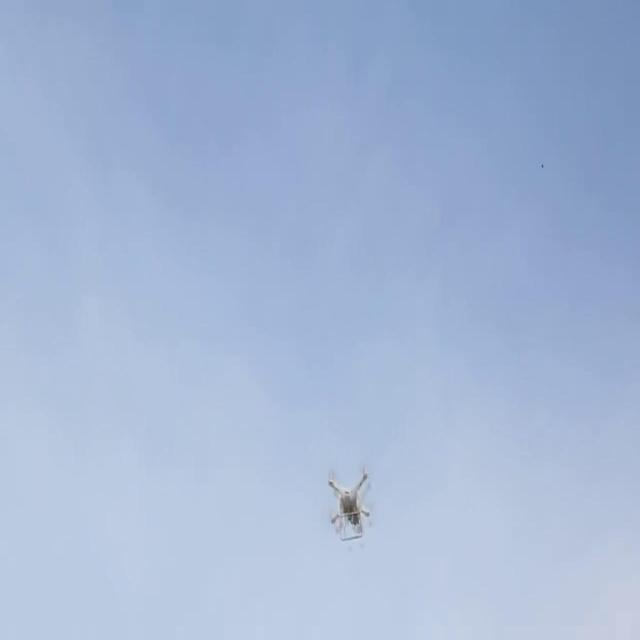drone: (313, 446, 387, 563)
